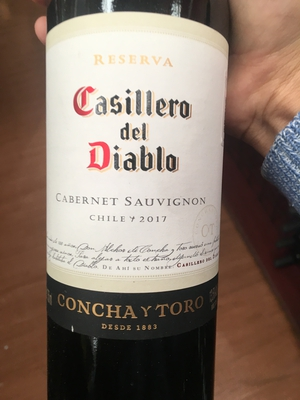casillero del diablo cabernet sauvignon: (41, 14, 233, 393)
